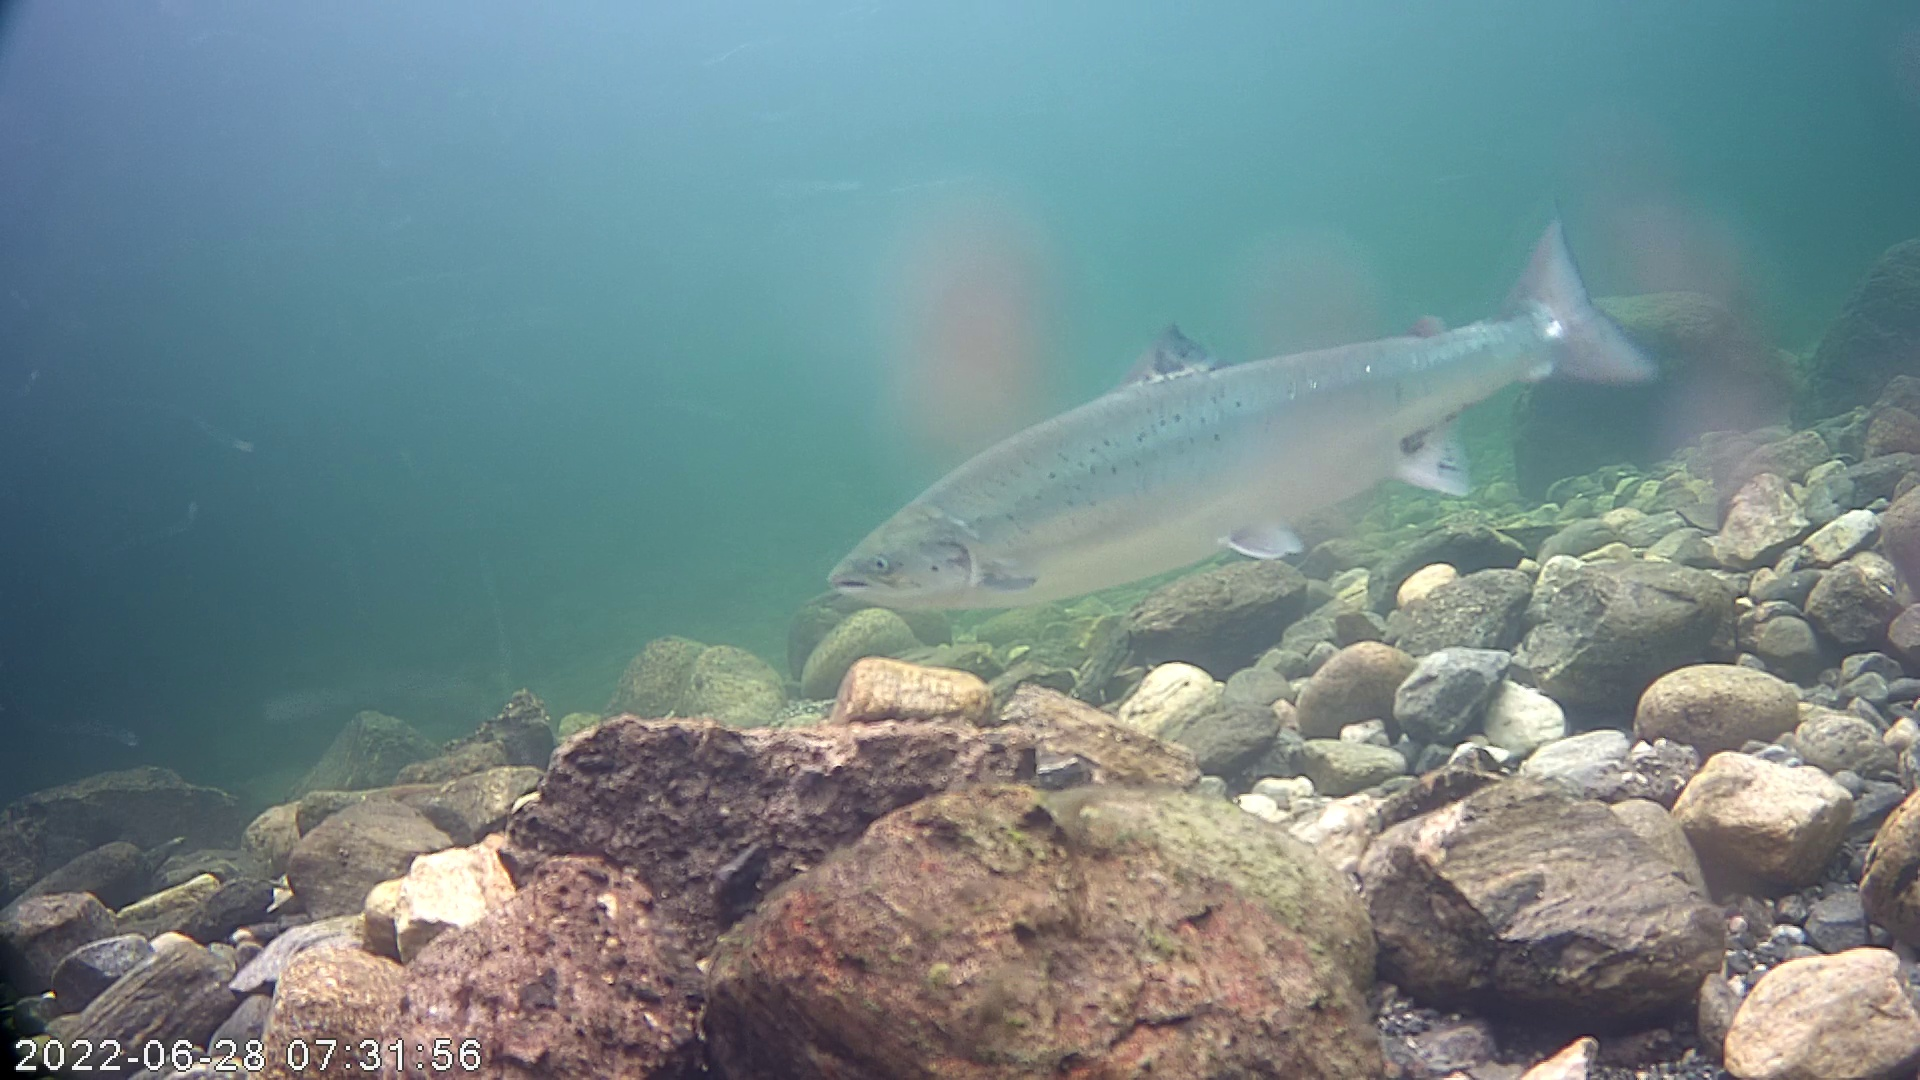salmon: (818, 185, 1679, 650)
